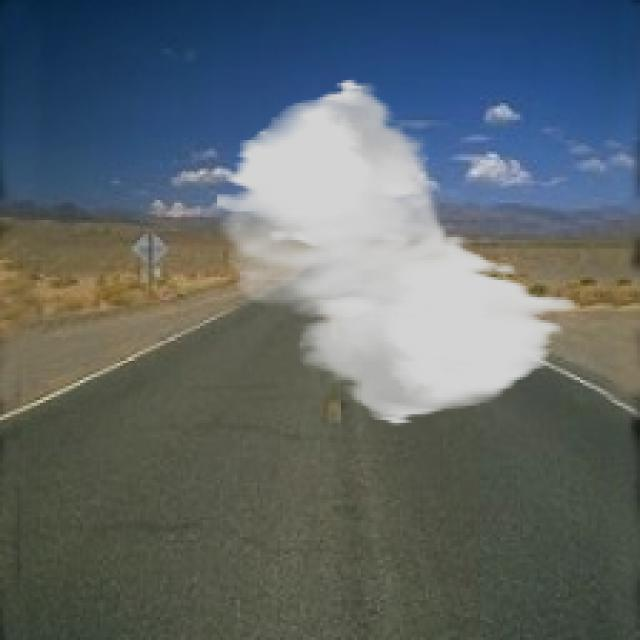smoke: (215, 77, 574, 426)
